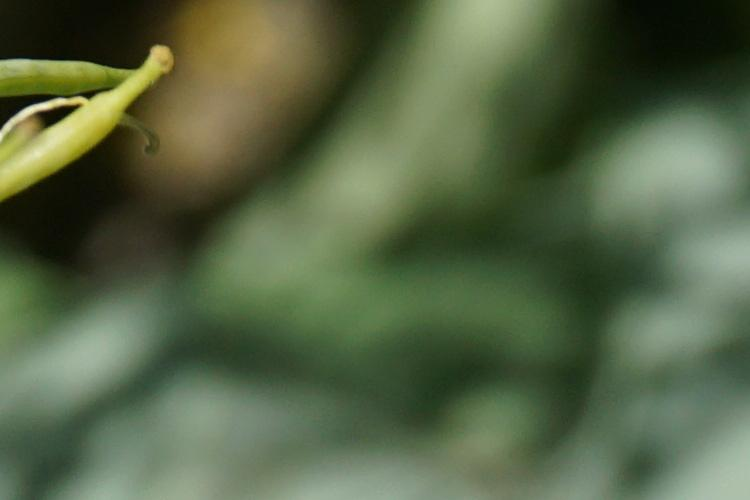pod: (11, 43, 186, 233), (7, 44, 179, 99)
